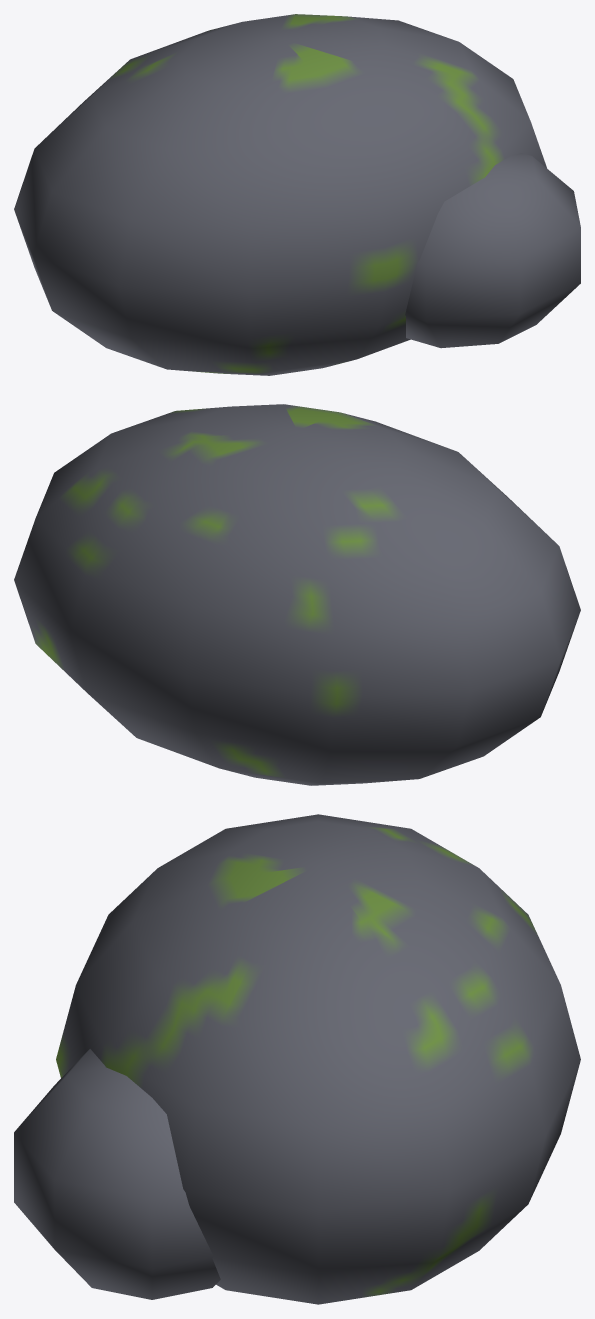
The model's file is prop_rocktrue_0d94.glb.
The picture shows the model from 3 angles, top to bottom: view 1: azimuth 30°, elevation 25°; view 2: azimuth 150°, elevation 25°; view 3: azimuth 270°, elevation 25°; orthographic projection. The views are drawn at different scales.
Parts seen in each view (by area): view 1: prop_rocktrue_0d94; view 2: prop_rocktrue_0d94; view 3: prop_rocktrue_0d94.
Boxes of the visible parts, x1,y1,x2,y2 form: prop_rocktrue_0d94: [14, 14, 580, 375]; prop_rocktrue_0d94: [14, 404, 580, 785]; prop_rocktrue_0d94: [14, 814, 580, 1304].
Bounding box in the file's own units: 0.7666 × 0.4566 × 0.6032.
Materials: 1 (1 with a texture image).
